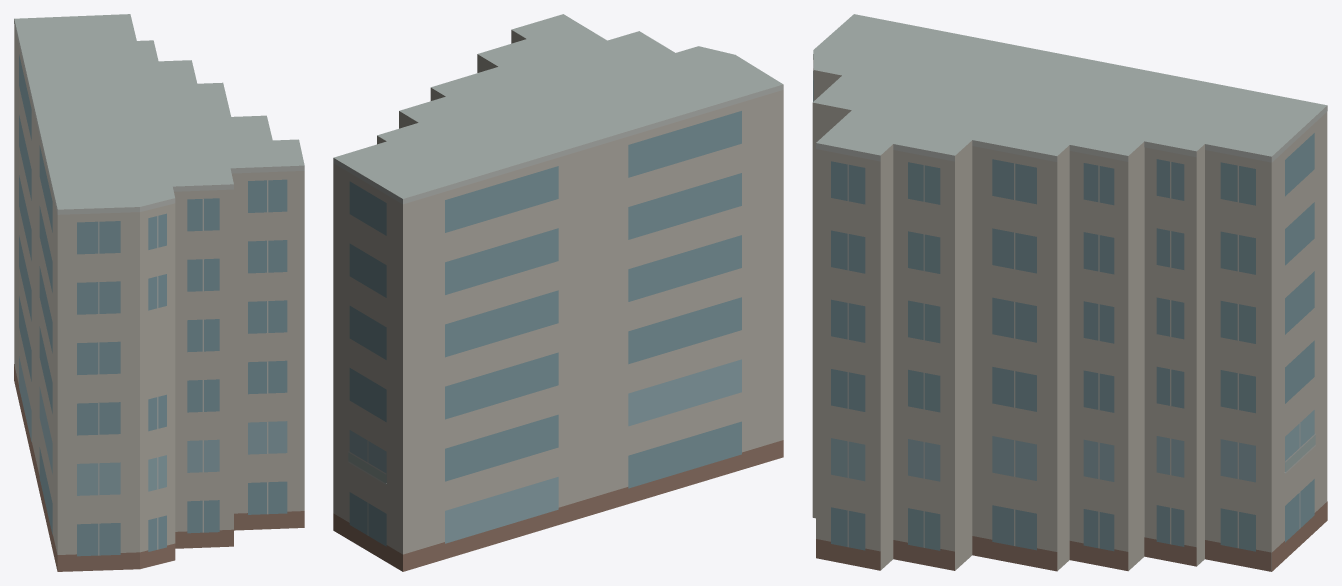
Rendered from survey-upis-33012391.glb.
The picture shows the model from 3 angles, left to right: view 1: azimuth 30°, elevation 25°; view 2: azimuth 150°, elevation 25°; view 3: azimuth 270°, elevation 25°; orthographic projection. The views are drawn at different scales.
Visible parts, largest first — view 1: survey-upis-33012391.tmp; view 2: survey-upis-33012391.tmp; view 3: survey-upis-33012391.tmp.
Part boxes in pixels (box(x1,y1,x2,y2)): survey-upis-33012391.tmp: box(14, 14, 304, 571); survey-upis-33012391.tmp: box(333, 14, 783, 571); survey-upis-33012391.tmp: box(812, 14, 1327, 571).
Size of the model in its own units: 12.46 by 16.9 by 19.01.
